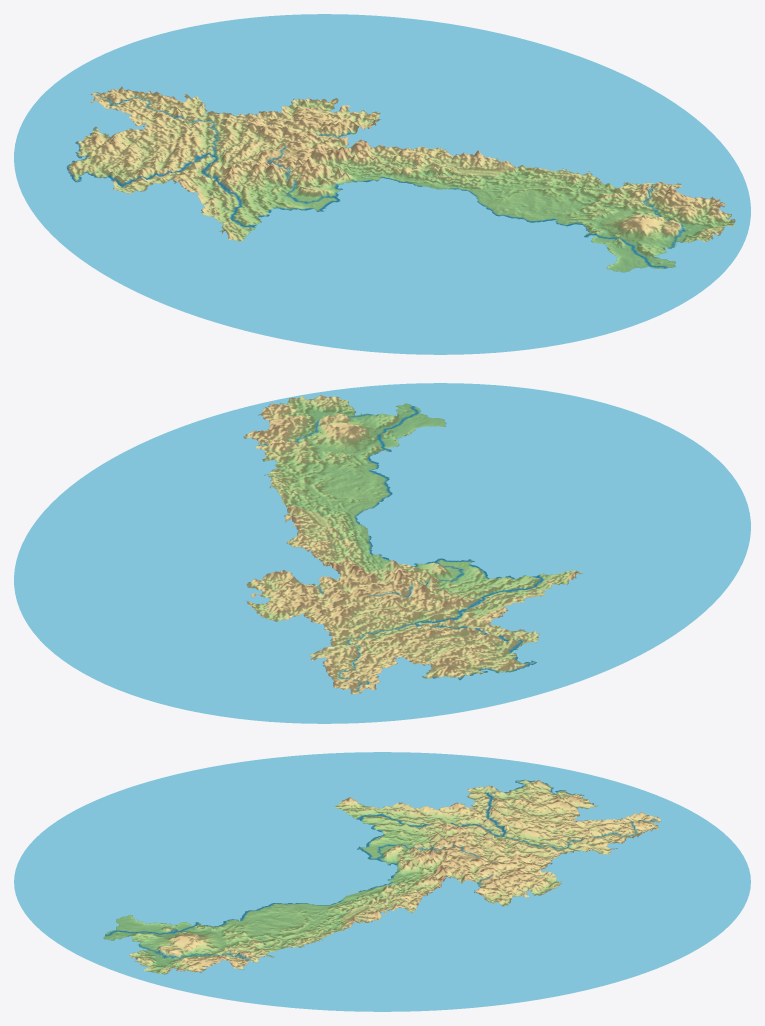
Rendered from LAO-terrain.glb.
3 renders of one model, top to bottom at view 1: azimuth 30°, elevation 25°; view 2: azimuth 150°, elevation 25°; view 3: azimuth 270°, elevation 25°, orthographic. The views are drawn at different scales.
Visible parts, largest first — view 1: Relevo com hidrografia; view 2: Relevo com hidrografia; view 3: Relevo com hidrografia.
Part boxes in pixels (bbox=[...]): Relevo com hidrografia: bbox=[14, 14, 750, 354]; Relevo com hidrografia: bbox=[14, 383, 750, 723]; Relevo com hidrografia: bbox=[14, 752, 750, 1011].
Size of the model in its own units: 1.77 by 0.0444 by 2.12.
2 materials, 1 textured.
